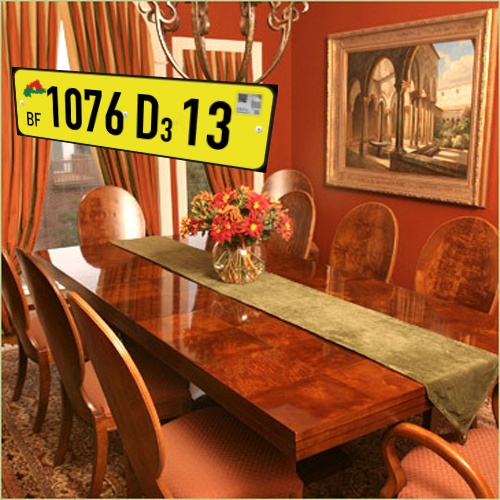plate: (6, 52, 281, 201)
